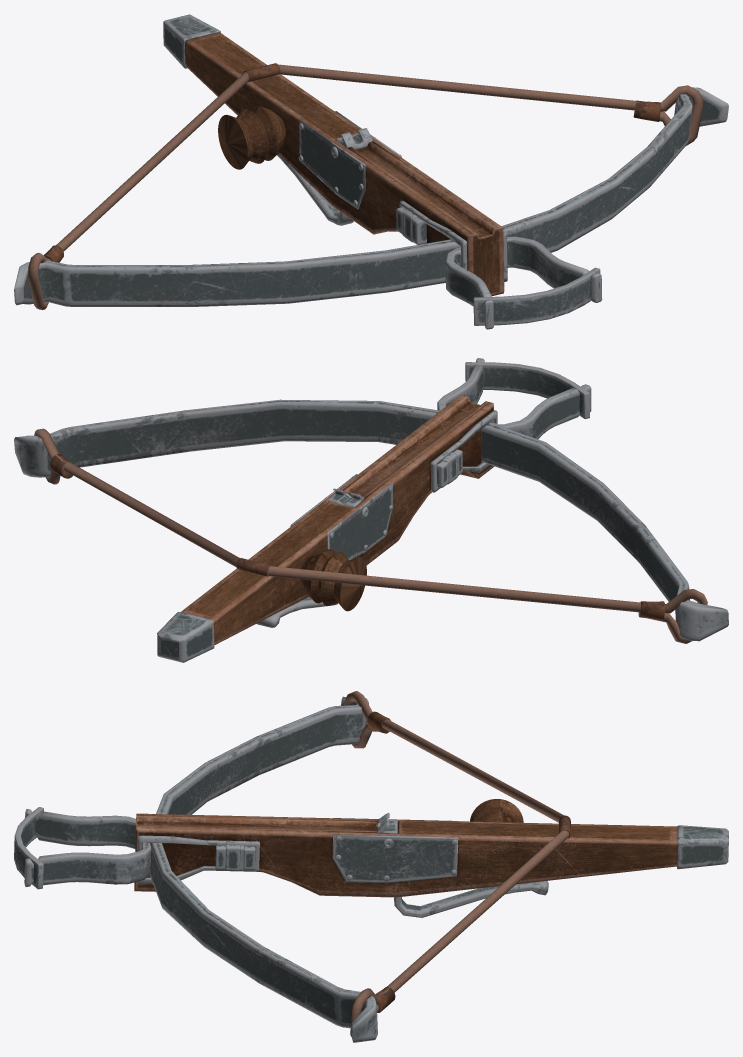
Rendered from crossbow.glb.
3 renders of one model, top to bottom at view 1: azimuth 30°, elevation 25°; view 2: azimuth 150°, elevation 25°; view 3: azimuth 270°, elevation 25°, orthographic. The views are drawn at different scales.
Parts seen in each view (by area): view 1: defaultMaterial.003; view 2: defaultMaterial.003; view 3: defaultMaterial.003.
Boxes of the visible parts, x1=… form: defaultMaterial.003: x1=14, y1=14, x2=728, y2=329; defaultMaterial.003: x1=14, y1=358, x2=728, y2=662; defaultMaterial.003: x1=14, y1=691, x2=728, y2=1042.
Bounding box in the file's own units: 1.26 × 0.1699 × 1.14.
Materials: 5 (5 with a texture image).
